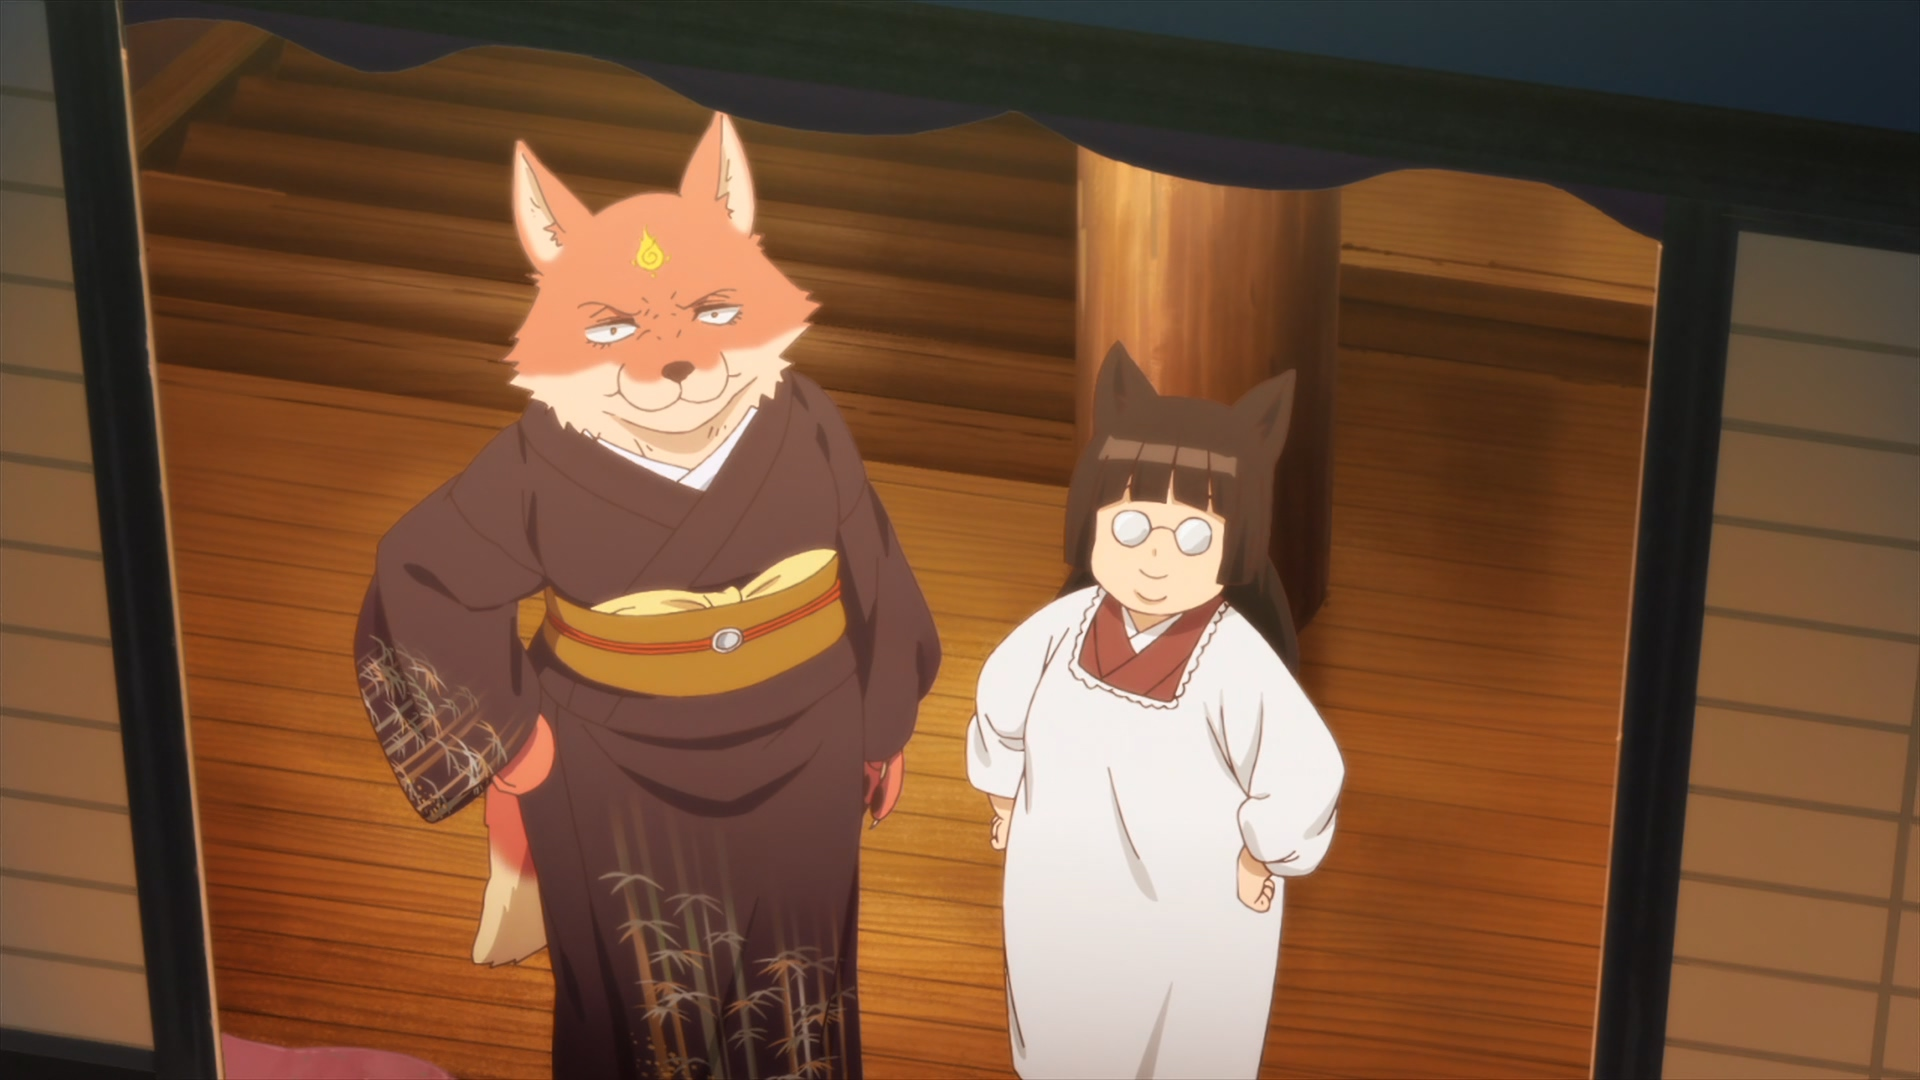其他: (965, 340, 1346, 1080)
椿: (352, 113, 940, 1080)
